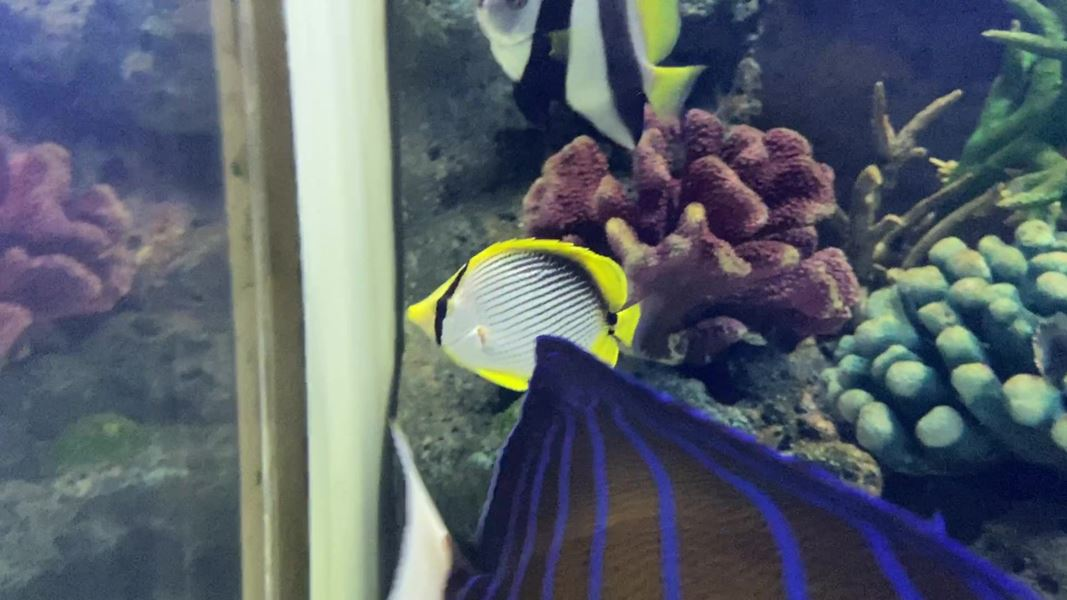Black-backed butterflyfish: (396, 226, 678, 407)
